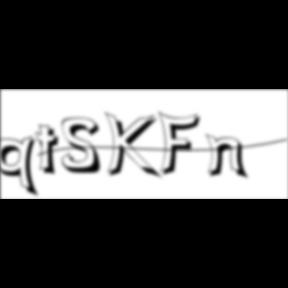F: (158, 110, 206, 178)
K: (106, 110, 164, 182)
S: (62, 117, 108, 176)
n: (206, 132, 252, 181)
q: (1, 135, 44, 200)
t: (36, 124, 66, 179)
